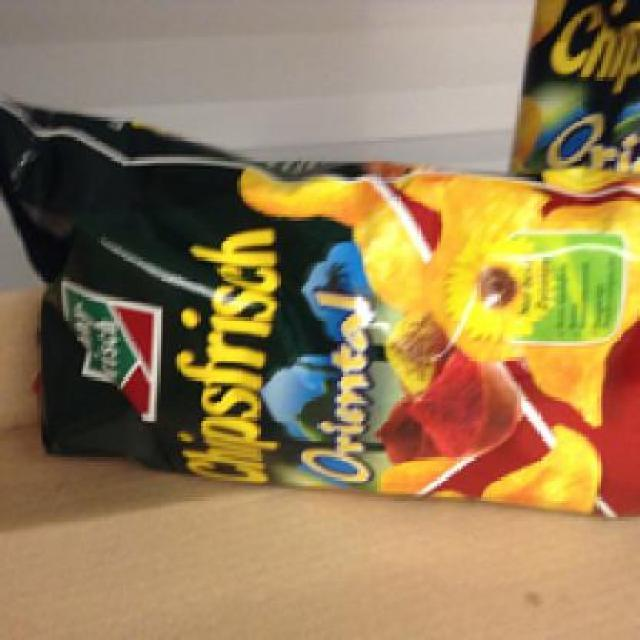Chips: (0, 99, 637, 515)
